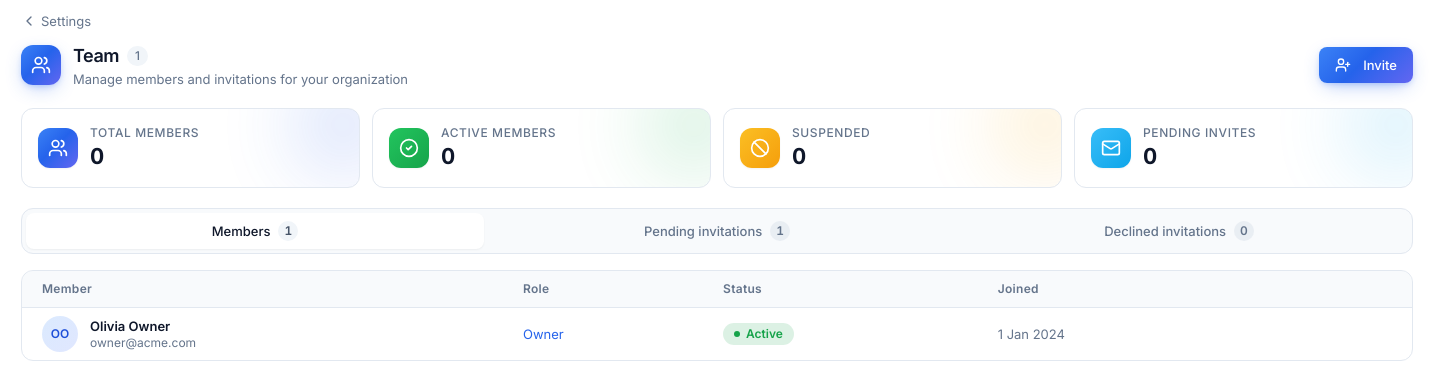
Test: TeamManagementView › copies the invite link to the clipboard
Click the tab "Pending invitations 1" at (717, 231), box [488, 213, 946, 249]
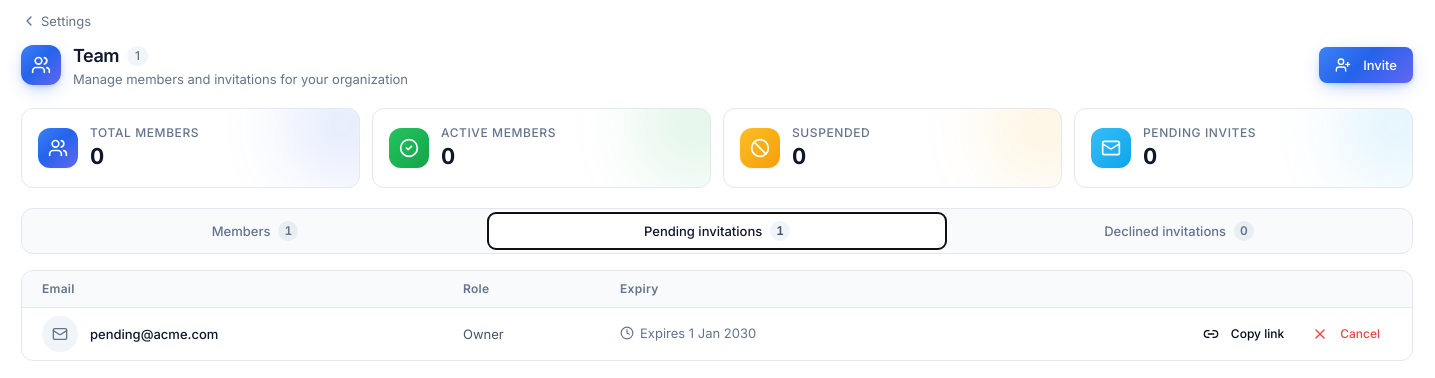
Click the button with aria-label "copy invite link for pending@acme.com" at (1243, 334), box [1191, 318, 1296, 350]
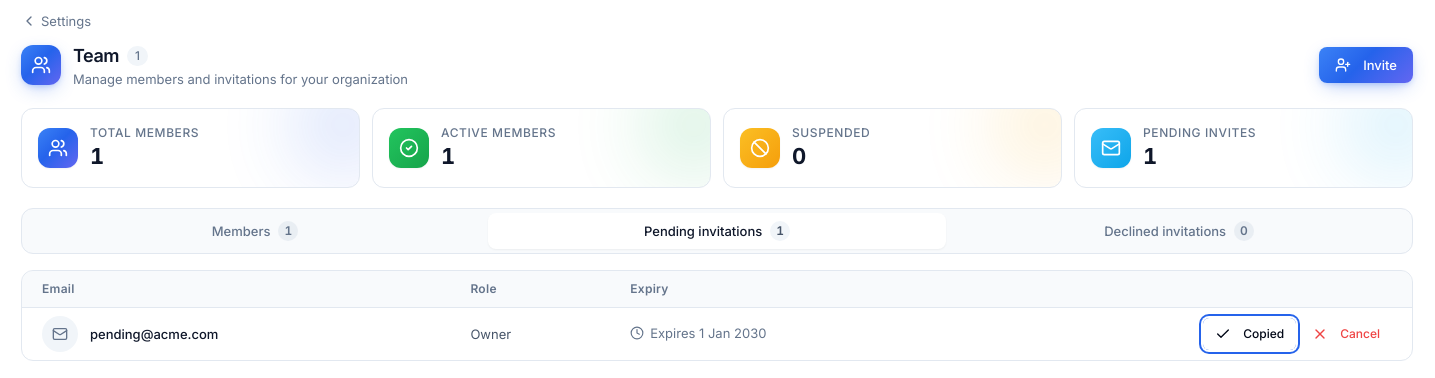
Expected: the button "Copied" is shown, [1203, 318, 1296, 350]
